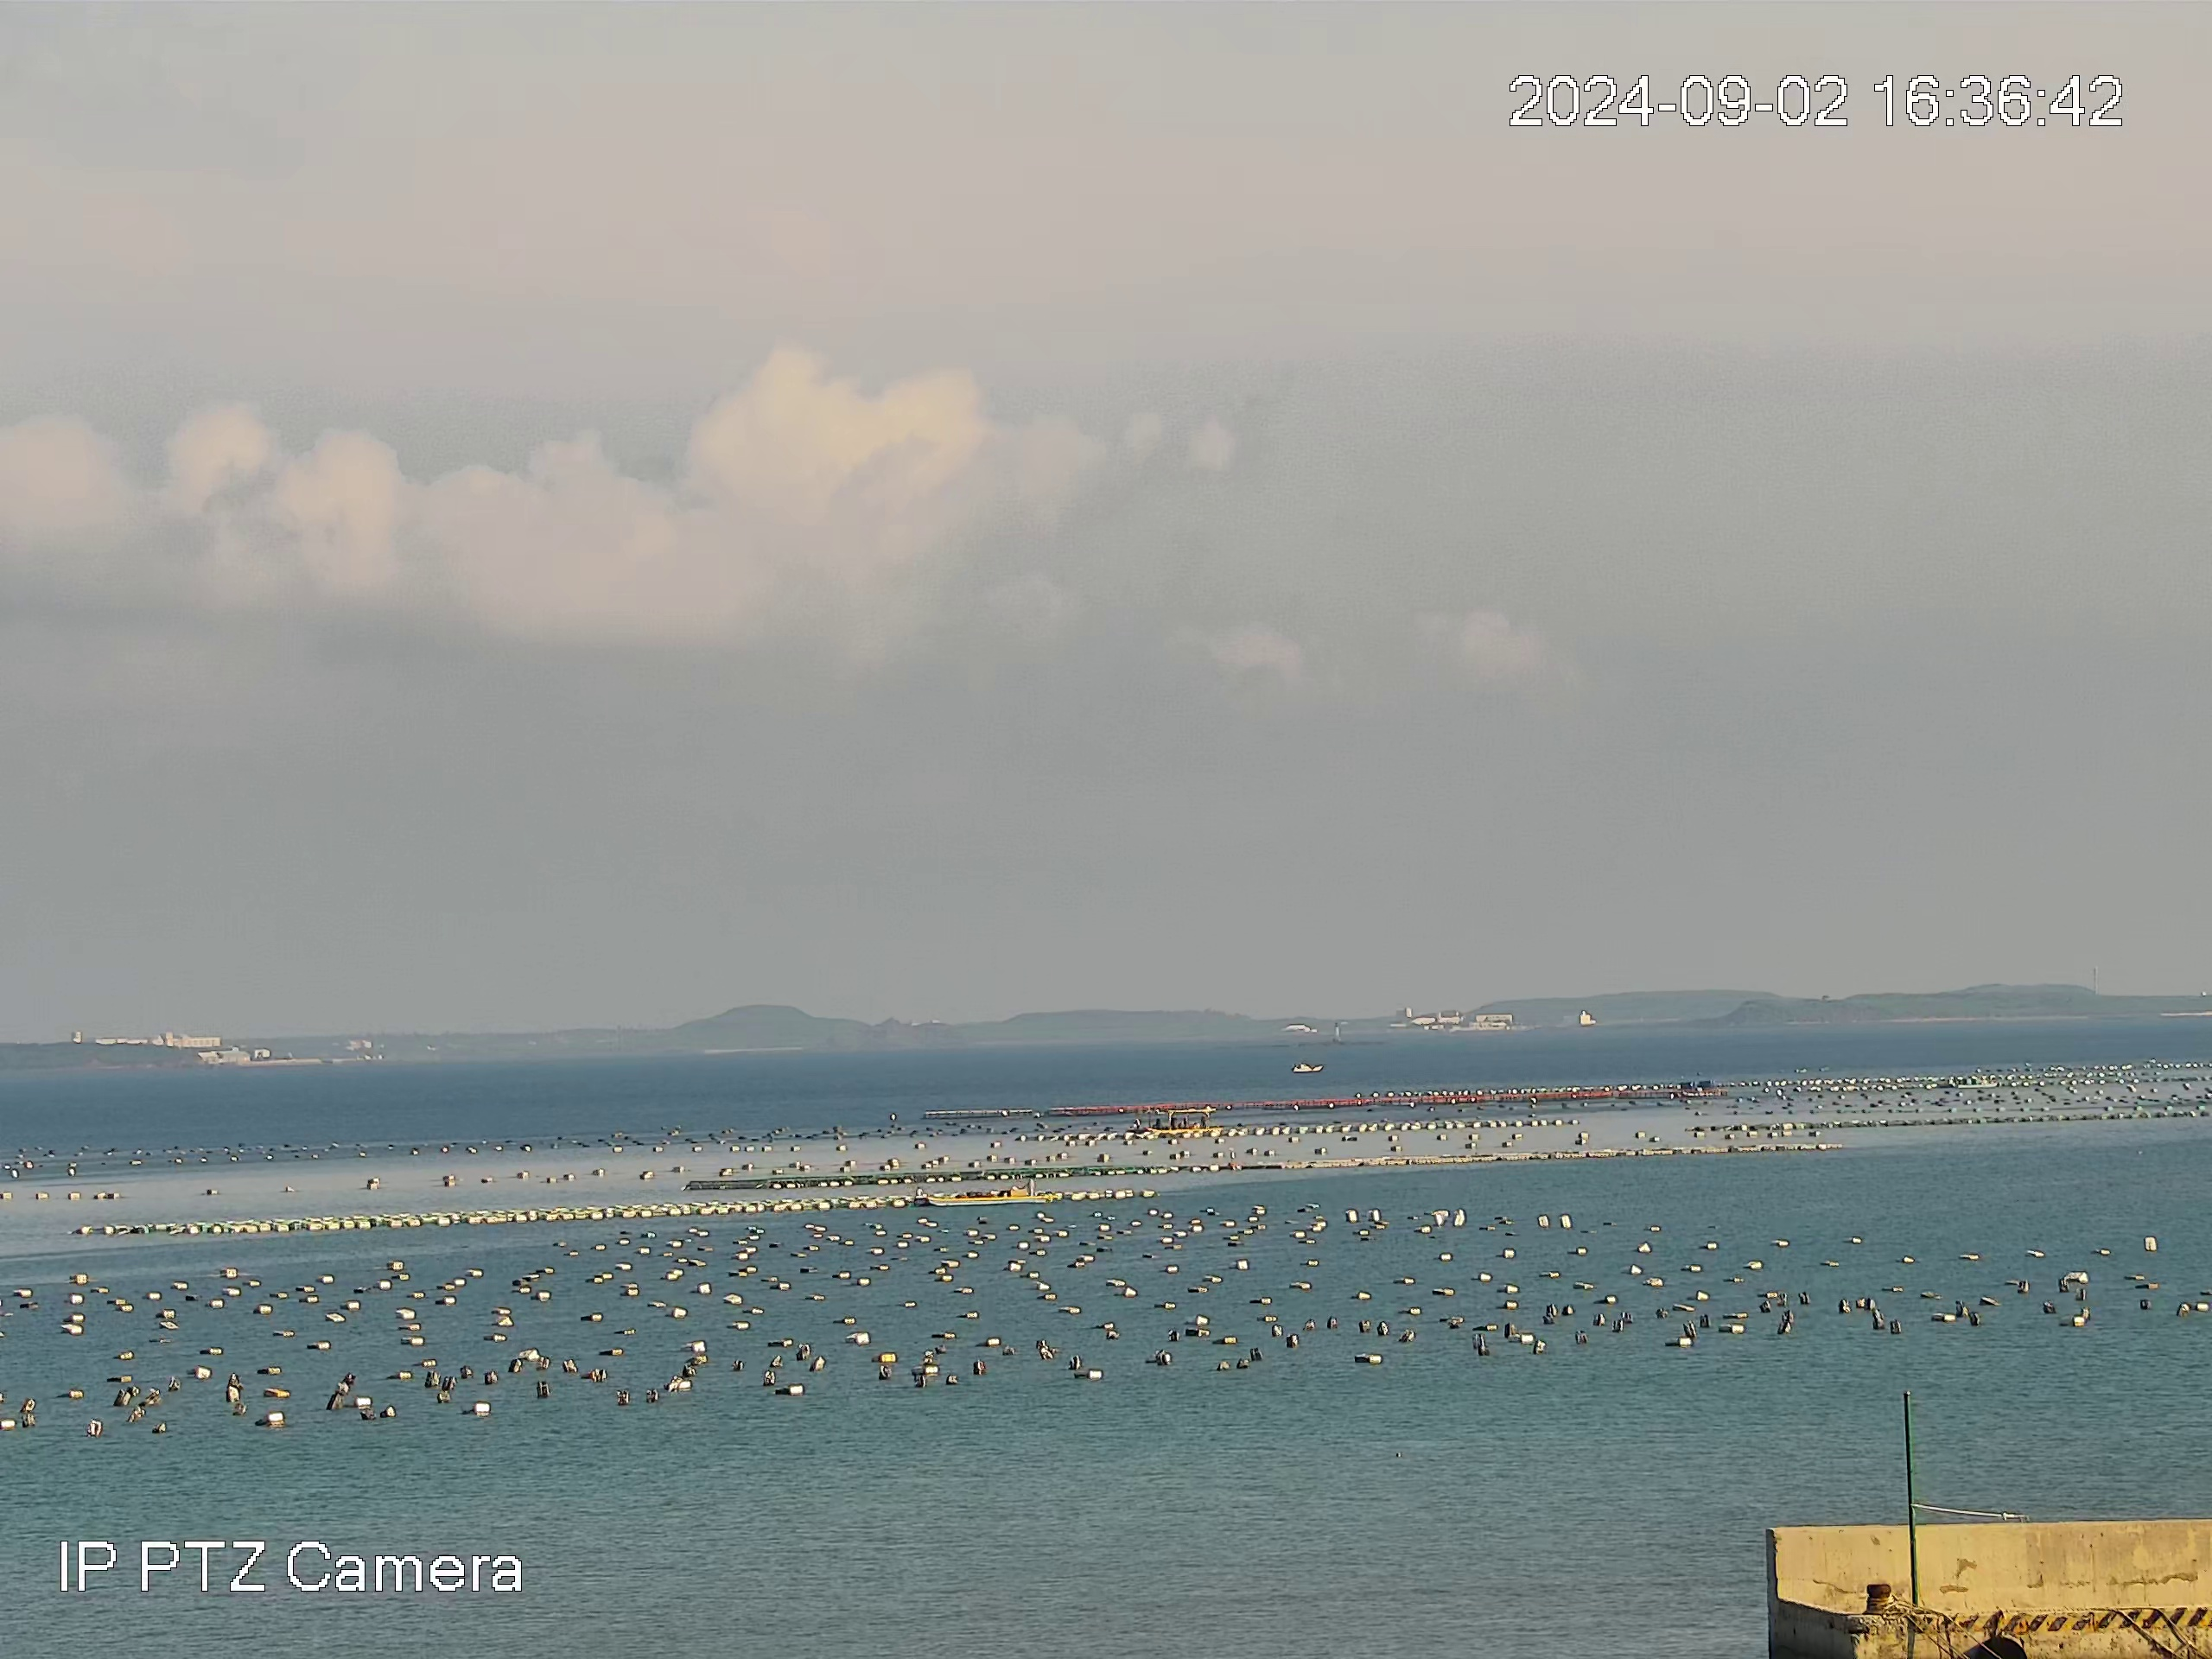boat: (925, 1176, 1061, 1208), (1143, 1103, 1223, 1134), (1291, 1061, 1325, 1073)
